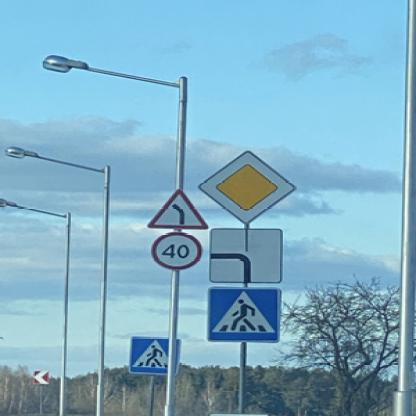crosswalk: (204, 286, 279, 342), (126, 334, 176, 374)
speedlimit: (147, 230, 200, 270)
